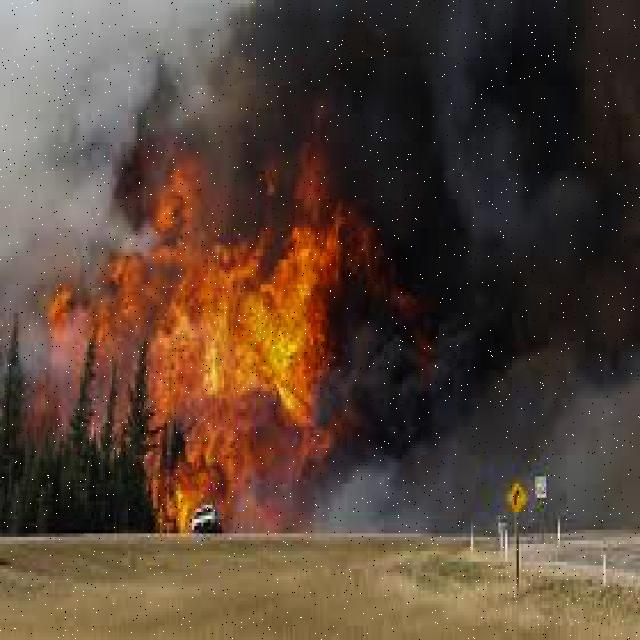fire: (162, 184, 372, 473)
smoke: (372, 15, 628, 331)
